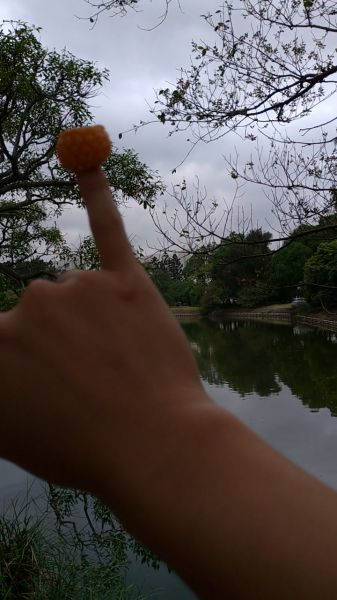eggs: (55, 126, 111, 169)
